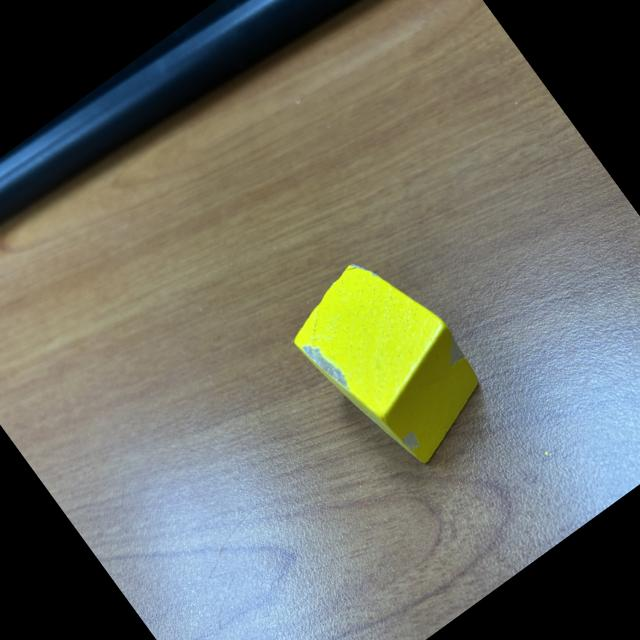broken: (274, 237, 507, 486)
